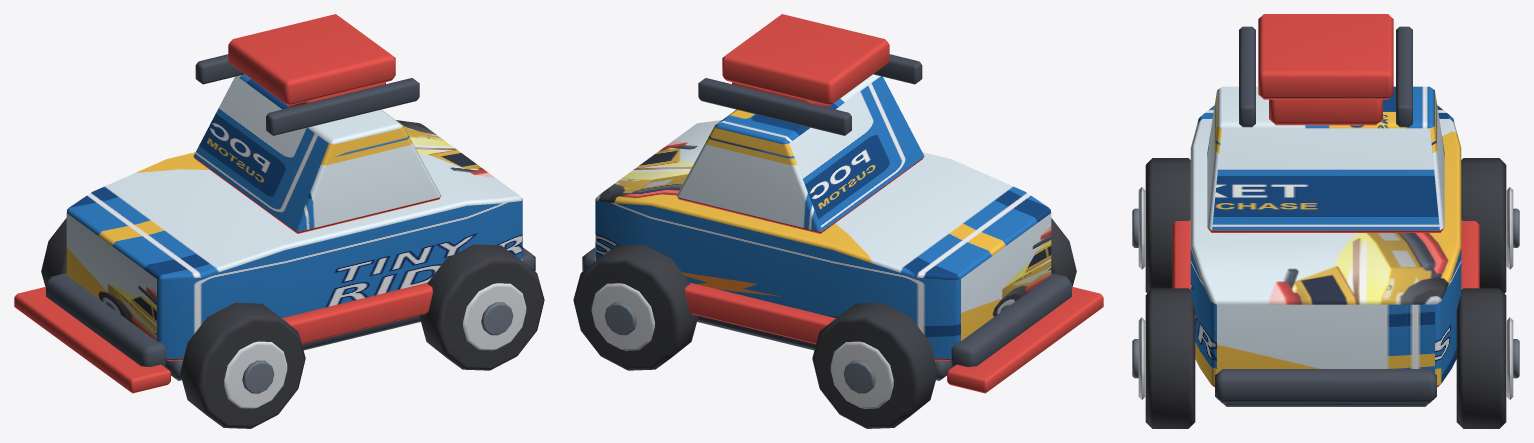
3 views of the same model, side by side, from view 1: azimuth 30°, elevation 25°; view 2: azimuth 150°, elevation 25°; view 3: azimuth 270°, elevation 25° (orthographic). The views are drawn at different scales.
Parts seen in each view (by area): view 1: CC-01_connected_shell, CC-01_cabin, utility load, Tire, Tire.002, custom chin, custom side guard, front bumper, utility rail, Rim.002, Rim, underbody (+4 smaller); view 2: CC-01_connected_shell, CC-01_cabin, utility load, Tire.001, Tire.003, custom chin, custom side guard.001, front bumper, utility rail.001, Rim.003, Rim.001, underbody (+4 smaller); view 3: CC-01_connected_shell, CC-01_cabin, utility load, rear bumper, Tire.002, Tire.003, Tire, Tire.001, custom equipment, utility rail, utility rail.001, custom side guard (+6 smaller).
Boxes of the visible parts, x1,y1,x2,y2 form: CC-01_connected_shell: (66,120,522,360); CC-01_cabin: (193,74,441,233); utility load: (228,14,395,105); Tire: (180,302,305,428); Tire.002: (419,244,544,370); custom chin: (14,286,170,393); custom side guard: (282,282,432,344); front bumper: (46,273,167,366); utility rail: (266,78,419,135); Rim.002: (463,283,526,350); Rim: (224,341,287,408); underbody: (165,316,420,380); CC-01_connected_shell: (595,120,1051,360); CC-01_cabin: (676,74,924,233); utility load: (722,14,889,105); Tire.001: (812,302,937,428); Tire.003: (573,244,698,370); custom chin: (947,286,1103,393); custom side guard.001: (685,282,835,344); front bumper: (950,273,1071,366); utility rail.001: (698,78,851,135); Rim.003: (591,283,654,350); Rim.001: (830,341,893,408); underbody: (697,316,952,380); CC-01_connected_shell: (1190,105,1461,387); CC-01_cabin: (1207,86,1444,232); utility load: (1258,14,1393,99); rear bumper: (1215,369,1436,403); Tire.002: (1145,288,1195,428); Tire.003: (1456,288,1506,428); Tire: (1145,158,1190,293); Tire.001: (1461,158,1506,293); custom equipment: (1269,99,1382,125); utility rail: (1239,26,1255,127); utility rail.001: (1396,26,1412,127); custom side guard: (1172,220,1190,289).
Bounding box in the file's own units: 282 × 189 × 203.
